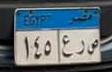1: (23, 35, 31, 61)
4: (33, 36, 42, 59)
5: (43, 38, 52, 56)
ain: (61, 35, 73, 60)
raa: (75, 38, 85, 57)
saad: (87, 38, 99, 56)
